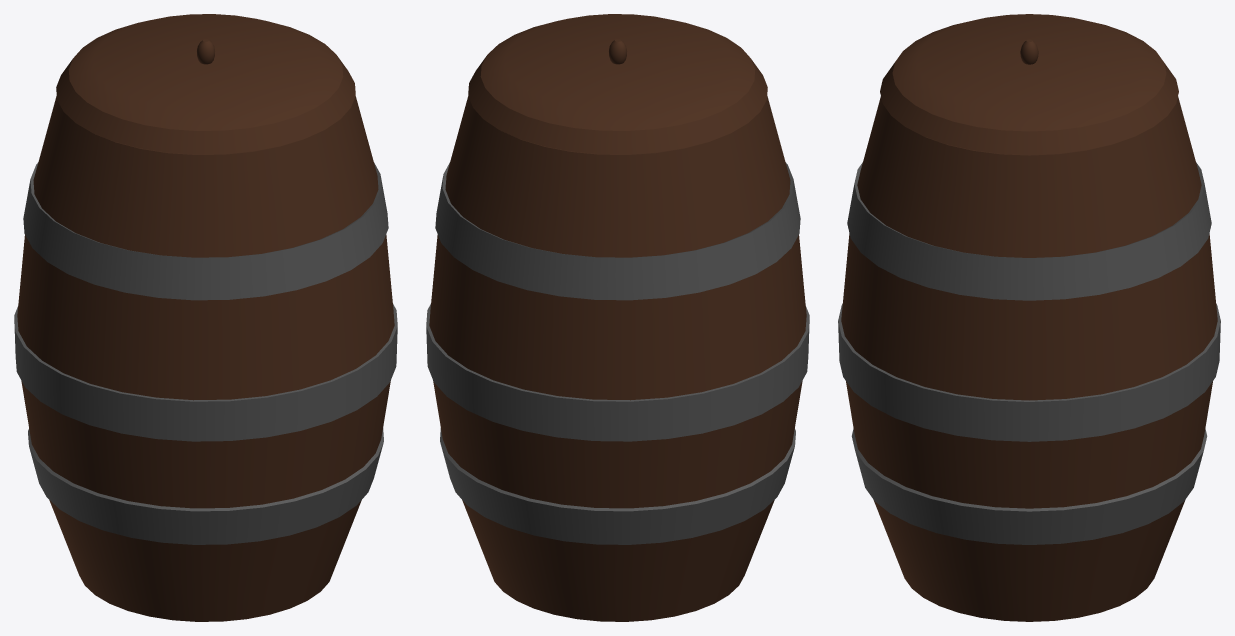
File: Barile S 2 .fbx
The picture shows the model from 3 angles, left to right: view 1: azimuth 30°, elevation 25°; view 2: azimuth 150°, elevation 25°; view 3: azimuth 270°, elevation 25°; orthographic projection.
Visible parts, largest first — view 1: T. Barrel 2.003; view 2: T. Barrel 2.003; view 3: T. Barrel 2.003.
Part boxes in pixels (left/top/right/bottom): T. Barrel 2.003: left=14, top=14, right=397, bottom=621; T. Barrel 2.003: left=426, top=14, right=809, bottom=621; T. Barrel 2.003: left=838, top=14, right=1220, bottom=621.
Bounding box in the file's own units: 89.68 × 136 × 89.29.
